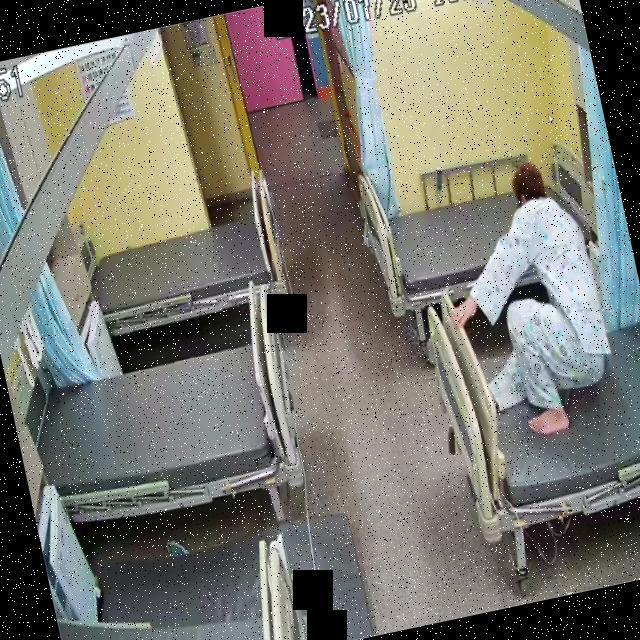bed: (418, 257, 640, 542), (21, 327, 310, 530), (358, 154, 612, 319), (84, 201, 288, 336)
danger: (418, 162, 624, 449)
patient: (423, 160, 620, 444)
